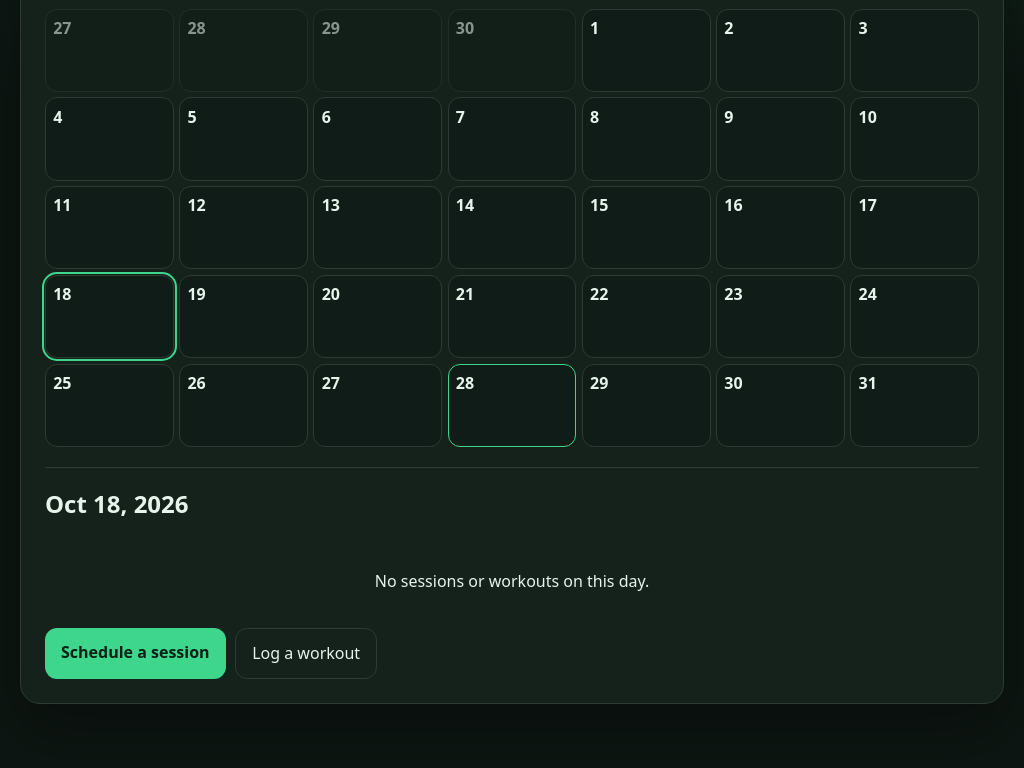
Test: S3 calendar, scheduling, and progress pages › prefills the workout form with the selected calendar date
(page scrolled)
Expected: the text "No sessions or workouts on this day." is shown, [375,570,649,592]
Click the link "Log a workout" at point(306, 653), box [235,628,377,679]
(page scrolled)
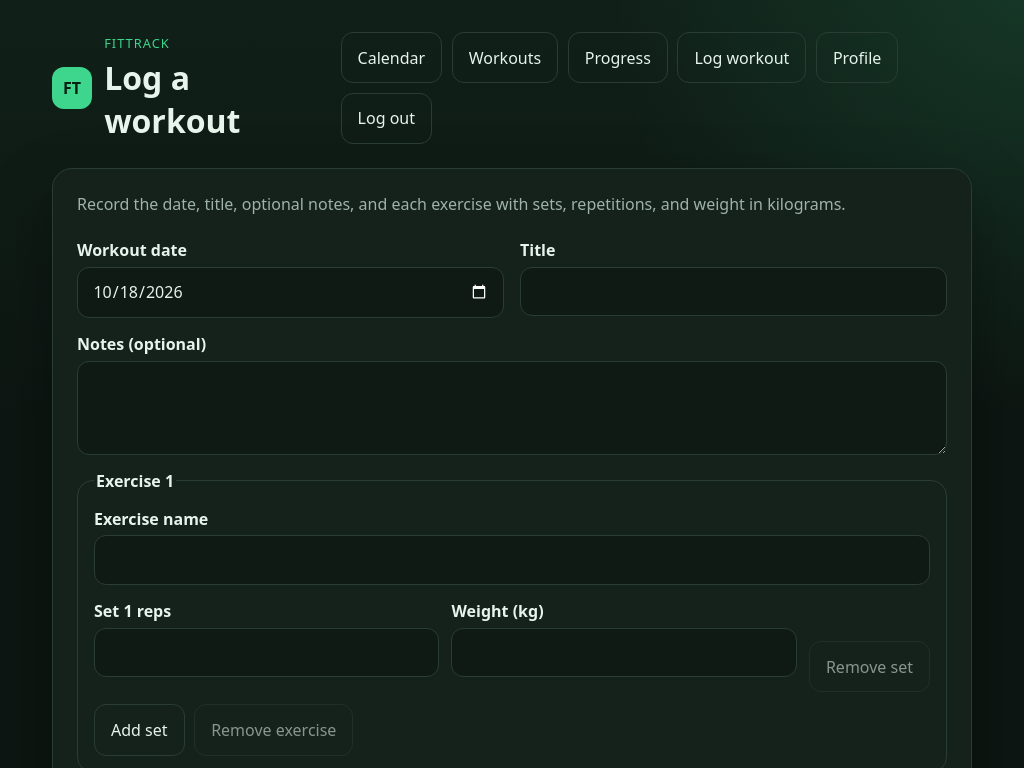
Now the heading "Log a workout" is shown, box [104,56,240,142]
Now the date field labelled "Workout date" holds "2026-10-18", box [77,267,504,318]
